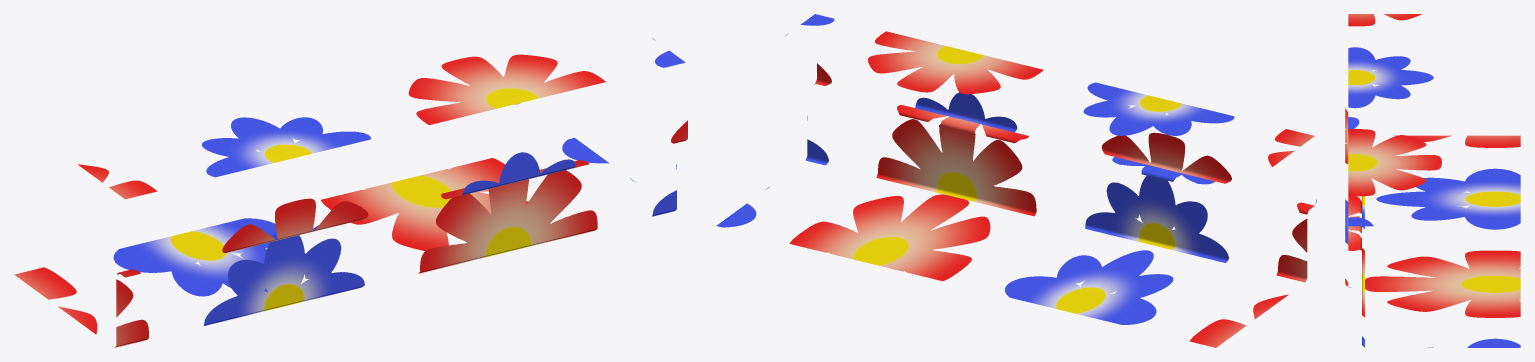
The model's file is SM_SS02_Cornice.fbx.
The picture shows the model from 3 angles, left to right: view 1: azimuth 30°, elevation 25°; view 2: azimuth 150°, elevation 25°; view 3: azimuth 270°, elevation 25°; orthographic projection. The views are drawn at different scales.
Visible parts, largest first — view 1: SM_SS02_Cornice; view 2: SM_SS02_Cornice; view 3: SM_SS02_Cornice.
Boxes of the visible parts, x1,y1,x2,y2 form: SM_SS02_Cornice: (14, 37, 687, 347); SM_SS02_Cornice: (716, 14, 1316, 347); SM_SS02_Cornice: (1345, 14, 1520, 347).
Bounding box in the file's own units: 300 × 80 × 105.
